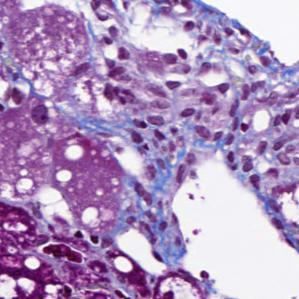inflammation: (26, 92, 61, 134)
